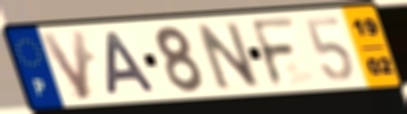5: (301, 14, 356, 83)
8: (153, 24, 207, 95)
A: (103, 29, 160, 98)
F: (248, 15, 300, 90)
N: (192, 19, 263, 93)
V: (37, 28, 93, 103)
